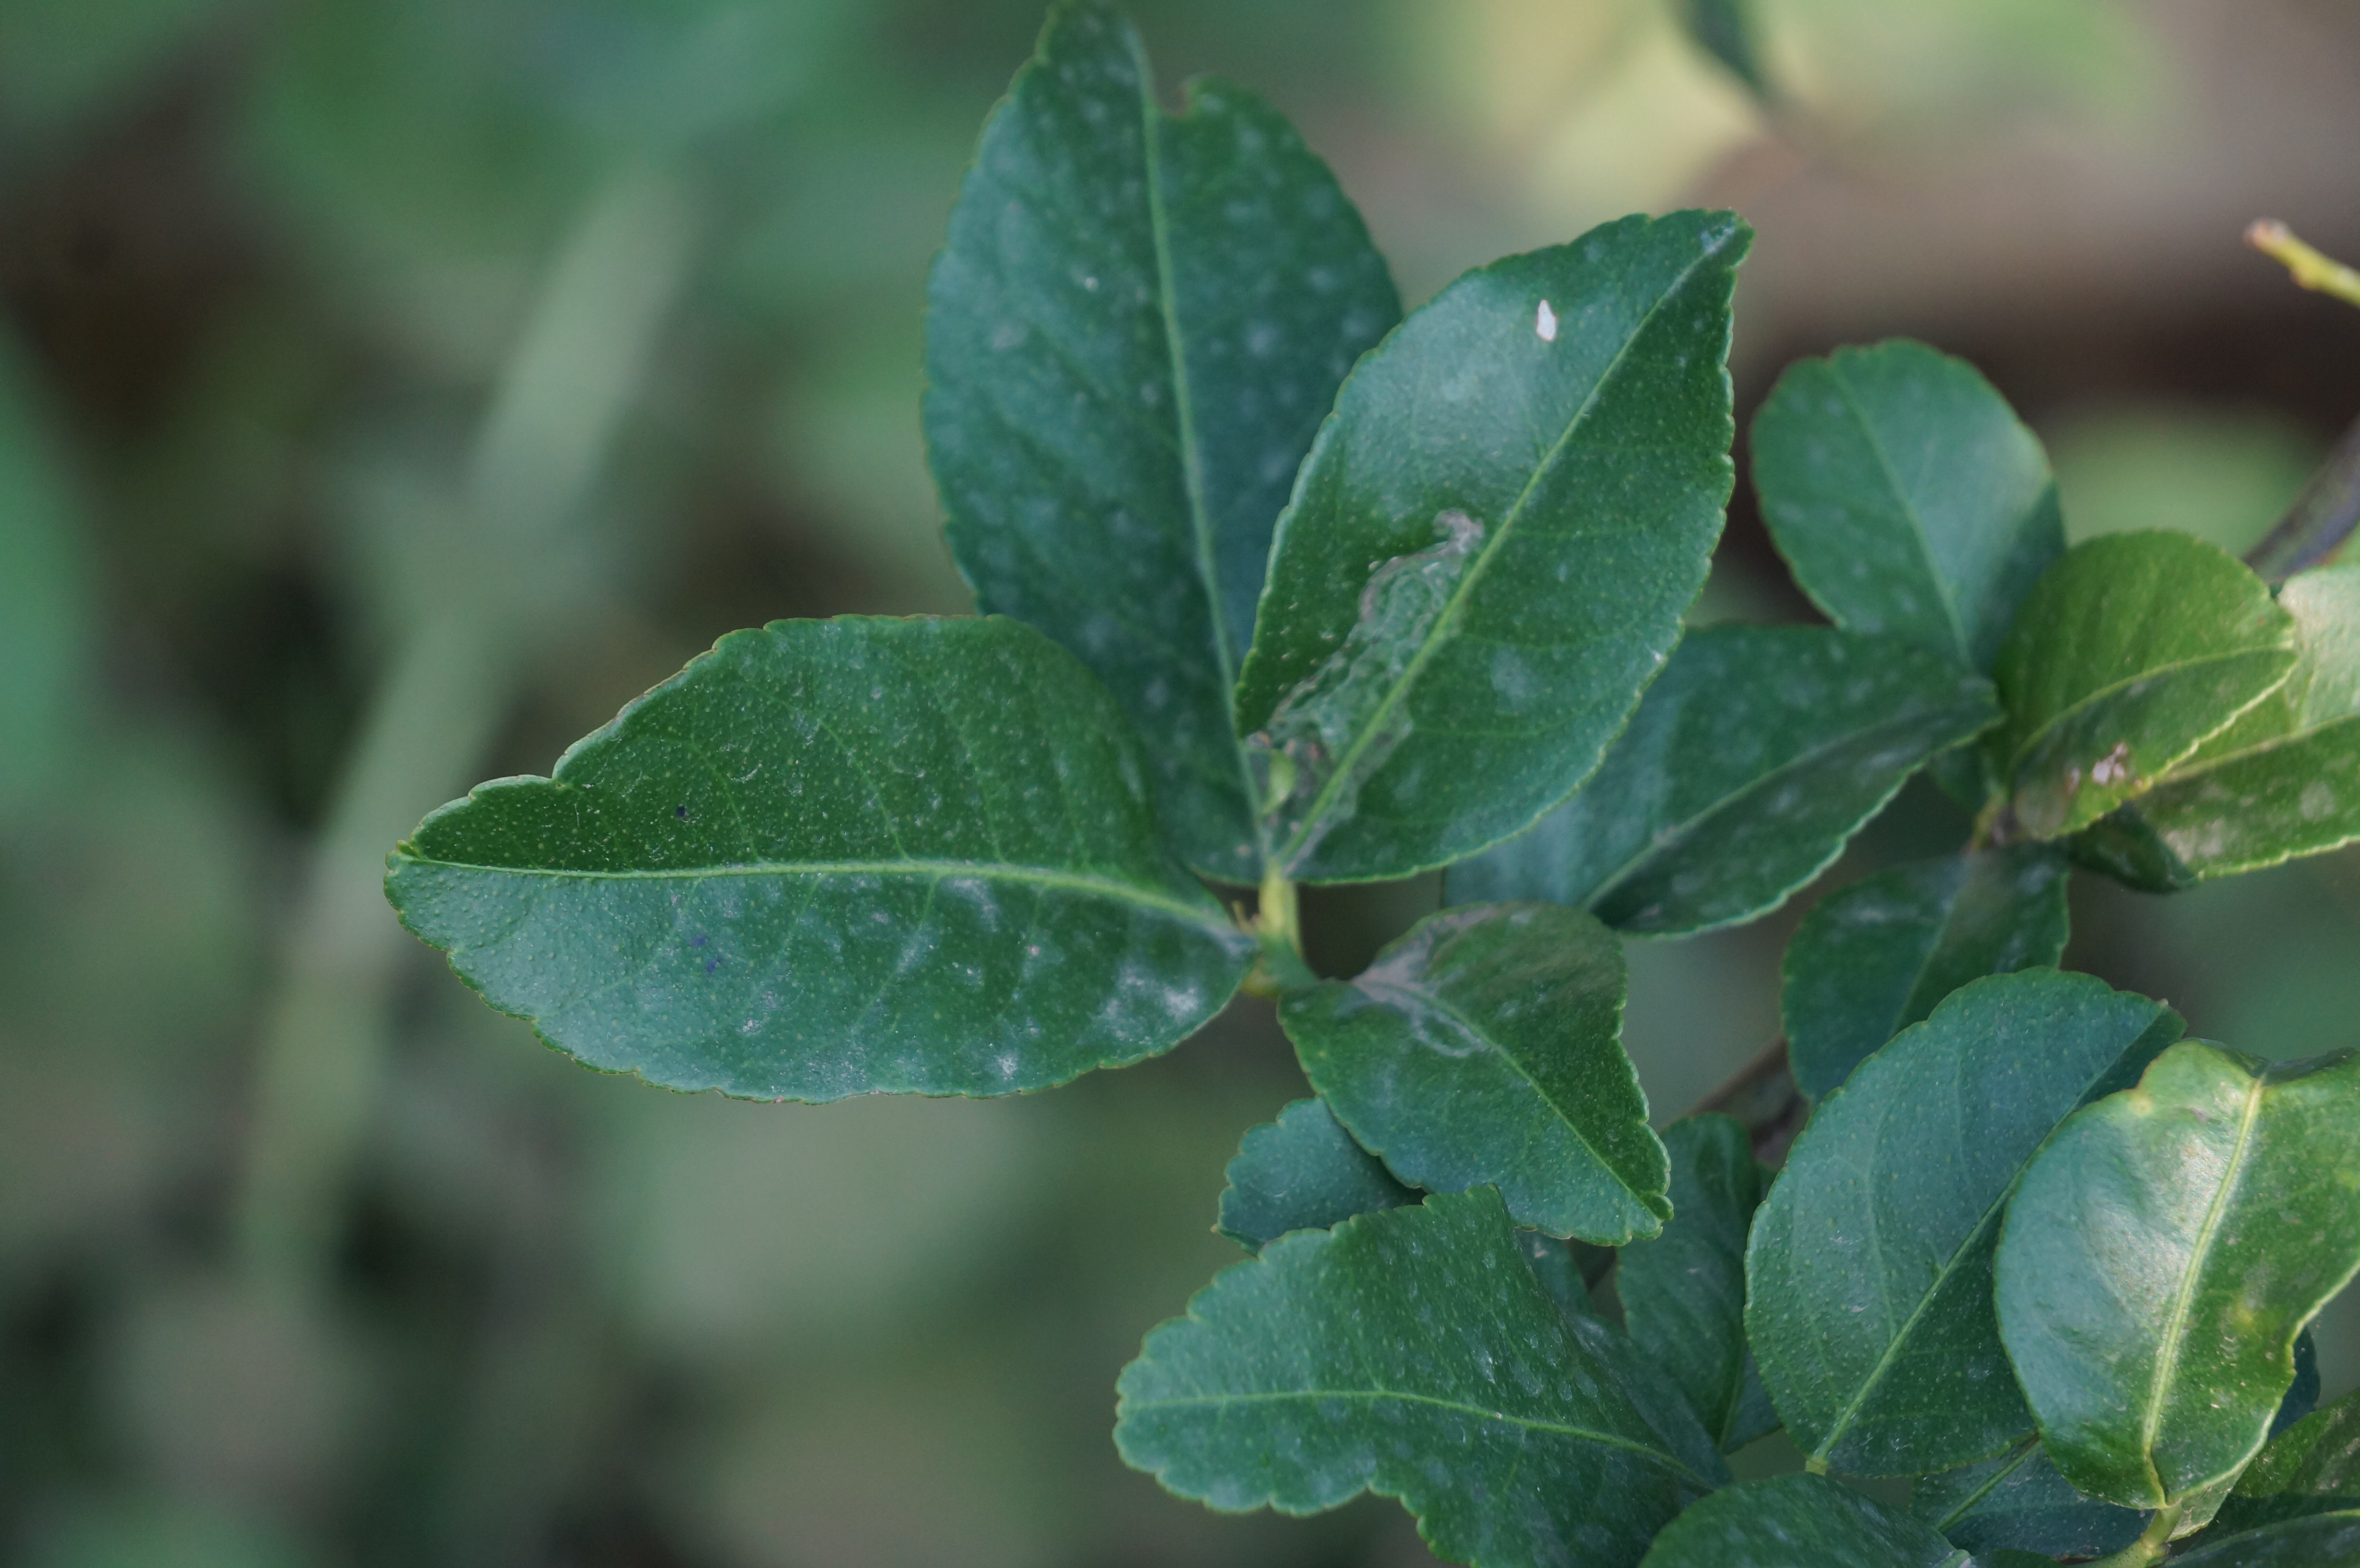damage: (1254, 488, 1505, 840)
